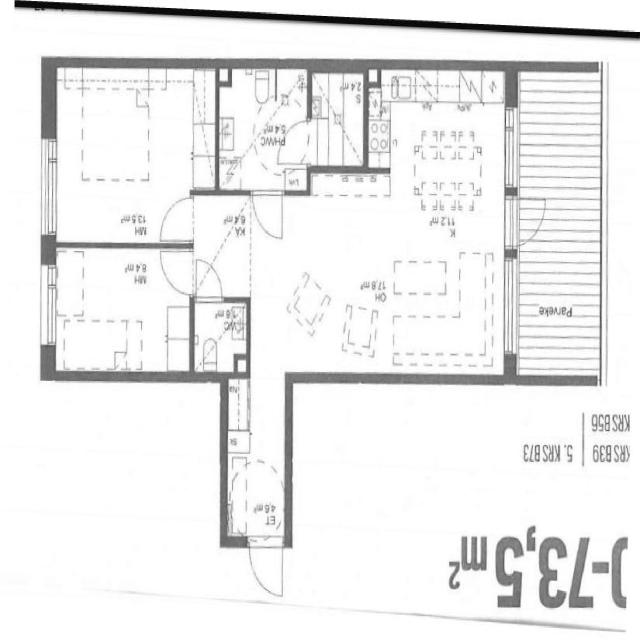door: (156, 234, 198, 296), (245, 538, 286, 600), (249, 184, 286, 243), (156, 191, 197, 244), (515, 190, 550, 247), (278, 115, 312, 167), (194, 258, 225, 304)
window: (36, 130, 63, 244), (500, 252, 520, 364), (37, 258, 60, 354), (500, 102, 520, 194)
zone: (206, 174, 477, 377), (384, 65, 502, 382), (50, 66, 216, 246), (53, 245, 193, 374), (217, 65, 310, 190), (309, 68, 368, 170), (192, 298, 249, 374)
